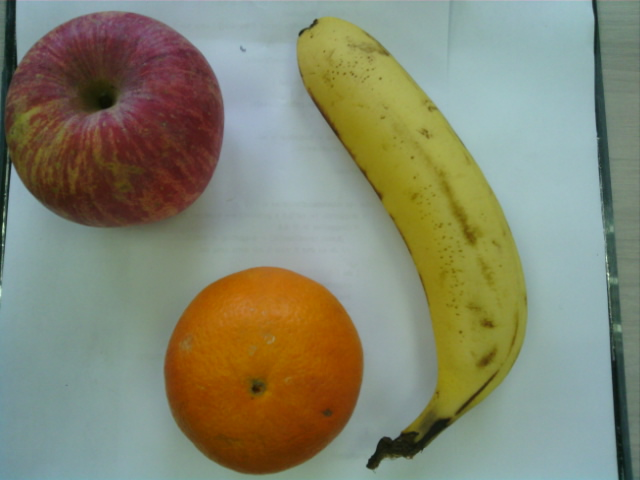normal_apple: (3, 11, 225, 226)
normal_banana: (298, 18, 530, 418)
normal_orange: (167, 266, 363, 474)
